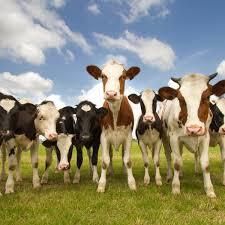cow: (159, 74, 225, 199), (85, 62, 140, 191), (14, 101, 60, 190), (128, 89, 166, 186), (72, 100, 109, 185), (41, 110, 79, 185), (0, 92, 20, 194), (206, 97, 224, 184)
